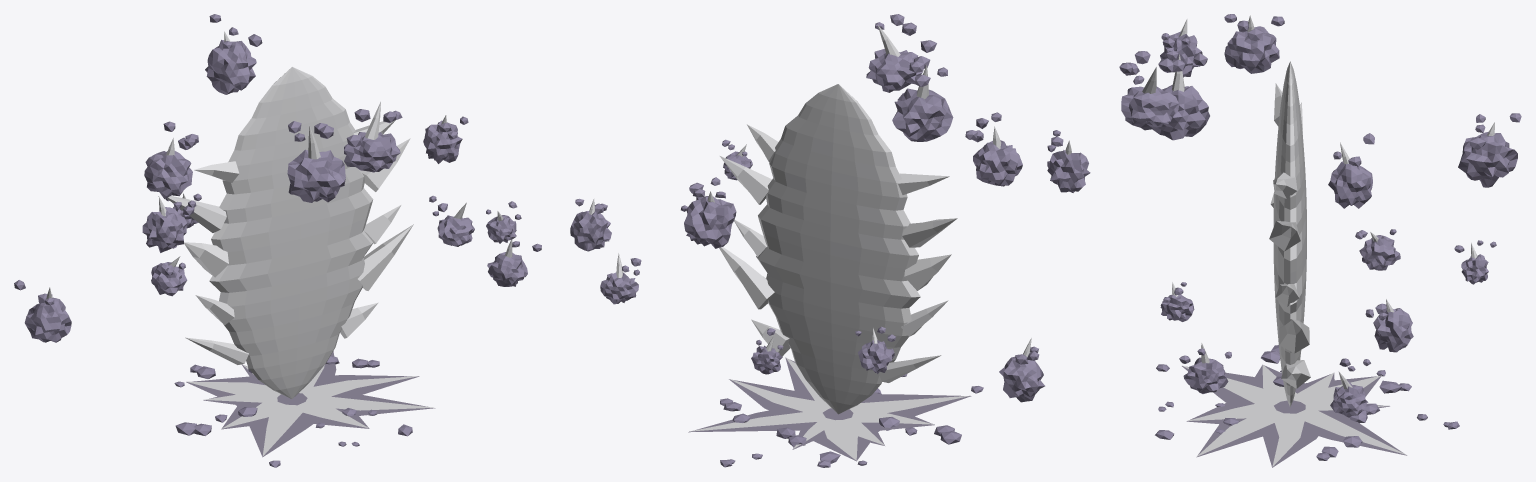
File: EXPEDITION_ENTRANCE.fbx
3 renders of one model, left to right at view 1: azimuth 30°, elevation 25°; view 2: azimuth 150°, elevation 25°; view 3: azimuth 270°, elevation 25°, orthographic. The views are drawn at different scales.
Parts seen in each view (by area): view 1: RiftHalo, ScarGlow, Scar, FragRock9, FragRock3, FragRock7, FragRock10, Debris, FragRock6, FragRock8, FragRock2, Edge4 (+12 smaller); view 2: RiftHalo, ScarGlow, Scar, FragRock9, FragRock3, FragRock10, FragRock7, Debris, FragRock6, FragRock8, FragRock2, Edge4 (+10 smaller); view 3: RiftHalo, ScarGlow, Scar, FragRock3, FragRock10, FragRock9, FragRock7, Debris, FragRock6, FragRock2, FragRock12, FragRock5 (+8 smaller).
Part boxes in pixels (bbox=[...]): RiftHalo: bbox=[209, 67, 373, 398]; ScarGlow: bbox=[186, 364, 433, 456]; Scar: bbox=[186, 351, 435, 457]; FragRock9: bbox=[287, 121, 345, 202]; FragRock3: bbox=[205, 14, 262, 94]; FragRock7: bbox=[144, 121, 198, 198]; FragRock10: bbox=[344, 109, 402, 172]; Debris: bbox=[174, 355, 412, 467]; FragRock6: bbox=[14, 280, 71, 342]; FragRock8: bbox=[142, 200, 196, 252]; FragRock2: bbox=[423, 116, 468, 163]; Edge4: bbox=[358, 224, 413, 290]; RiftHalo: bbox=[756, 84, 920, 414]; ScarGlow: bbox=[689, 357, 970, 460]; Scar: bbox=[688, 357, 971, 461]; FragRock9: bbox=[892, 56, 953, 141]; FragRock3: bbox=[684, 177, 736, 248]; FragRock10: bbox=[866, 14, 936, 92]; FragRock7: bbox=[965, 112, 1022, 186]; Debris: bbox=[720, 373, 983, 467]; FragRock6: bbox=[999, 346, 1044, 402]; FragRock8: bbox=[1047, 130, 1090, 192]; FragRock2: bbox=[570, 198, 611, 251]; Edge4: bbox=[719, 247, 774, 309]; RiftHalo: bbox=[1273, 61, 1306, 407]; ScarGlow: bbox=[1182, 364, 1406, 466]; Scar: bbox=[1182, 365, 1406, 467]; FragRock3: bbox=[1458, 113, 1521, 187]; FragRock10: bbox=[1119, 51, 1179, 130]; FragRock9: bbox=[1152, 50, 1209, 140]; FragRock7: bbox=[1224, 14, 1284, 73]; Debris: bbox=[1155, 345, 1459, 460]; FragRock6: bbox=[1328, 133, 1374, 208]; FragRock2: bbox=[1365, 303, 1413, 352]; FragRock12: bbox=[1179, 348, 1231, 393]; FragRock5: bbox=[1355, 229, 1400, 270].
Bounding box in the file's own units: 2165 × 1562 × 1578.
